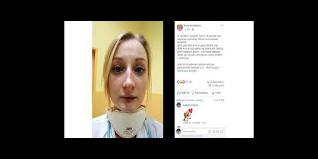mask_weared_incorrect: (113, 56, 148, 121)
